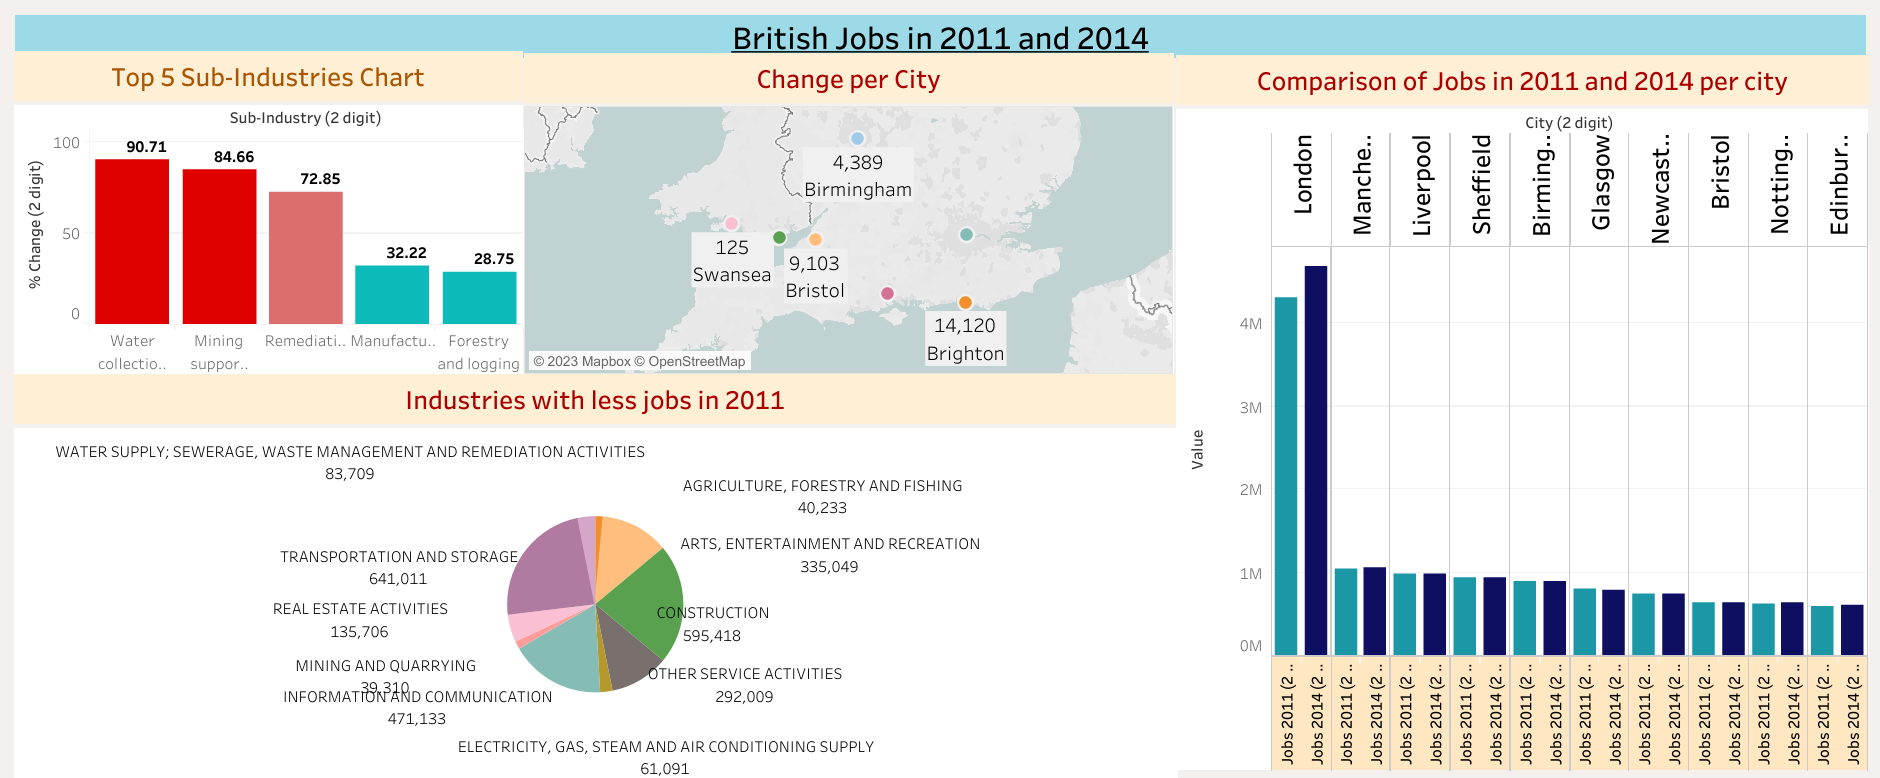

Layout of this report page (visuals, bound fields, positions):
{"tool":"tableau","page":{"name":"Dashboard 1 (2)","canvas":[1000,1000],"units":"permille","ordinal":1},"visuals":[{"type":"title","box":[9.8,9.3,980.5,47.7]},{"type":"worksheet","title":"Top 5 % of change by Sub-Industry","mark":"Bar","rows":["% Change (2 digit)"],"cols":["Industry (2 digit)"],"box":[9.8,57,980.5,248.9]},{"type":"worksheet","title":"Comparison of Jobs in 2011 and 2014 per city","mark":"Automatic","cols":["City (2 digit)"],"box":[9.8,305.9,980.5,349.6]},{"type":"worksheet","title":"Industries With Less Jobs in 2011","mark":"Pie","box":[9.8,655.5,490.2,335.2]},{"type":"worksheet","title":"Change Per City","mark":"Automatic","box":[500,655.5,490.2,335.2]}]}

Visuals, with their boxes on the dashboard's canvas, which has no fixed pixel size, in thousandths of its width and height (x1, y1, x2, y2). These are canvas units, not pixel positions in the 1880x778 screenshot, which may show the page scaled, cropped or inside an application window:
title: (left=10, top=9, right=990, bottom=57)
"Top 5 % of change by Sub-Industry" worksheet (Bar marks): (left=10, top=57, right=990, bottom=306)
"Comparison of Jobs in 2011 and 2014 per city" worksheet: (left=10, top=306, right=990, bottom=656)
"Industries With Less Jobs in 2011" worksheet (Pie marks): (left=10, top=656, right=500, bottom=991)
"Change Per City" worksheet: (left=500, top=656, right=990, bottom=991)
